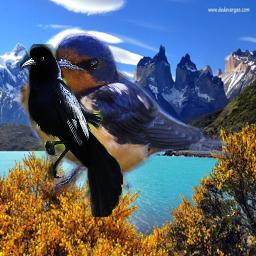Crow: (20, 44, 123, 217)
Swallow: (13, 32, 231, 199)
Woodpecker: (215, 206, 237, 239)
